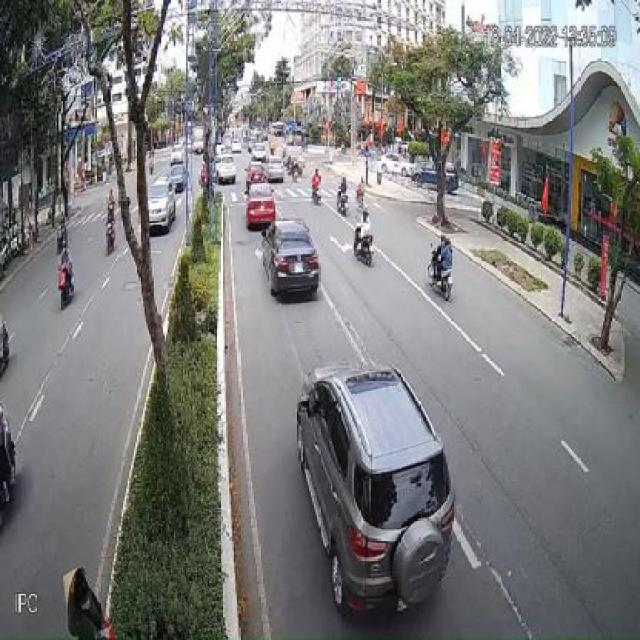car: (296, 364, 464, 624), (264, 220, 321, 304), (138, 178, 178, 234), (248, 180, 280, 233), (215, 150, 236, 186), (266, 157, 286, 185)
motorbike: (0, 393, 19, 531), (429, 234, 456, 303), (352, 212, 374, 271), (56, 257, 75, 310), (0, 317, 12, 379), (308, 170, 326, 206), (337, 176, 351, 219), (106, 214, 117, 256), (355, 180, 366, 213)
